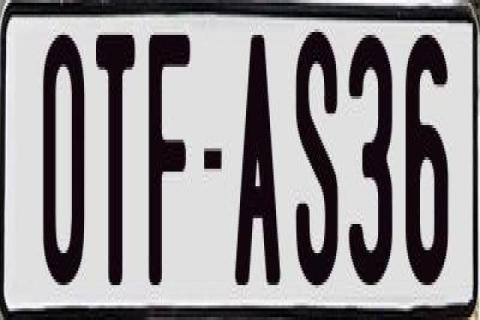0: (406, 26, 454, 282), (41, 27, 83, 286), (350, 32, 392, 282)
A: (234, 32, 280, 288)
F: (146, 26, 194, 288)
S: (296, 32, 344, 288)
T: (95, 26, 141, 282)
